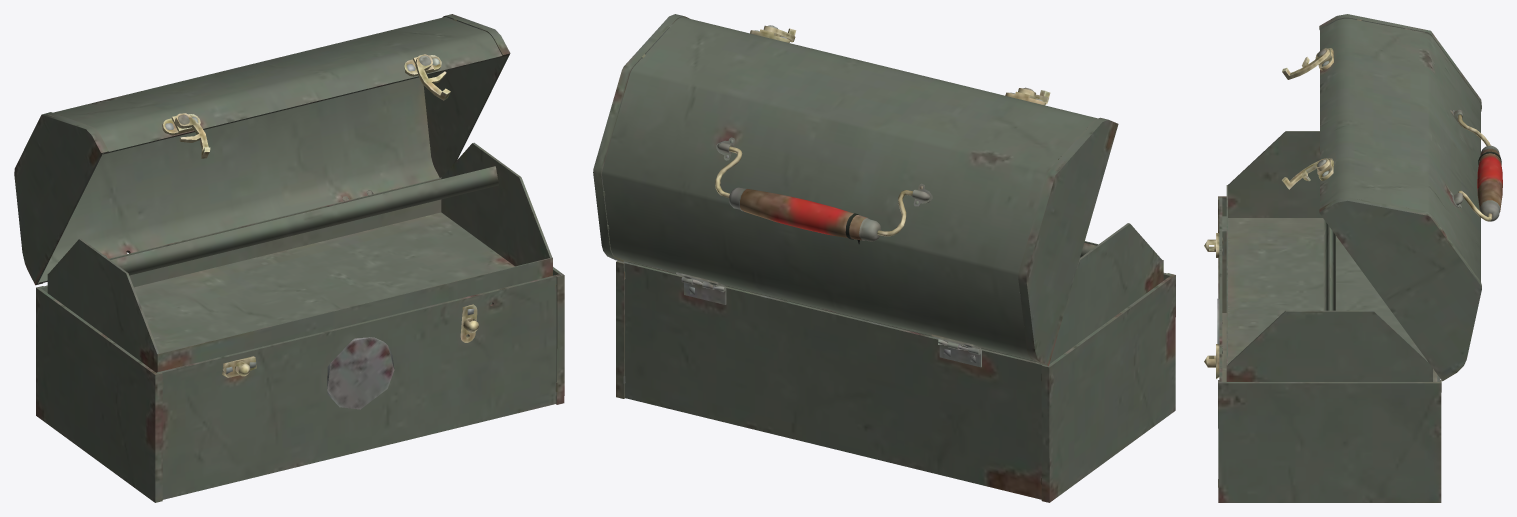
Rendered from metal_toolbox.glb.
3 views of the same model, side by side, from view 1: azimuth 30°, elevation 25°; view 2: azimuth 150°, elevation 25°; view 3: azimuth 270°, elevation 25° (orthographic). The views are drawn at different scales.
Visible parts, largest first — view 1: Cylinder.015, metal_toolbox, metal_toolbox_tray, metal_toolbox_handle_latch_r, metal_toolbox_handle_latch_l; view 2: Cylinder.015, metal_toolbox, metal_toolbox_tray, metal_toolbox_handle; view 3: Cylinder.015, metal_toolbox_tray, metal_toolbox, metal_toolbox_handle, metal_toolbox_handle_latch_l, metal_toolbox_handle_latch_r.
Boxes of the visible parts, left/top/right/bottom form: Cylinder.015: left=14, top=14, right=510, bottom=285; metal_toolbox: left=36, top=267, right=564, bottom=502; metal_toolbox_tray: left=47, top=142, right=552, bottom=372; metal_toolbox_handle_latch_r: left=415, top=54, right=450, bottom=100; metal_toolbox_handle_latch_l: left=175, top=113, right=210, bottom=158; Cylinder.015: left=593, top=14, right=1118, bottom=365; metal_toolbox: left=616, top=260, right=1175, bottom=502; metal_toolbox_tray: left=628, top=223, right=1163, bottom=363; metal_toolbox_handle: left=715, top=146, right=912, bottom=244; Cylinder.015: left=1317, top=14, right=1481, bottom=381; metal_toolbox_tray: left=1226, top=131, right=1432, bottom=381; metal_toolbox: left=1204, top=196, right=1441, bottom=502; metal_toolbox_handle: left=1458, top=114, right=1502, bottom=221; metal_toolbox_handle_latch_l: left=1282, top=48, right=1329, bottom=79; metal_toolbox_handle_latch_r: left=1282, top=158, right=1330, bottom=189.
Bounding box in the file's own units: 0.4 × 0.3047 × 0.2705.
1 material, 1 textured.
